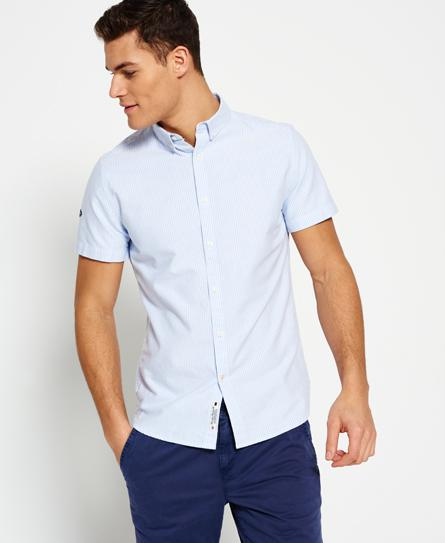teeshirt: (58, 93, 351, 451)
